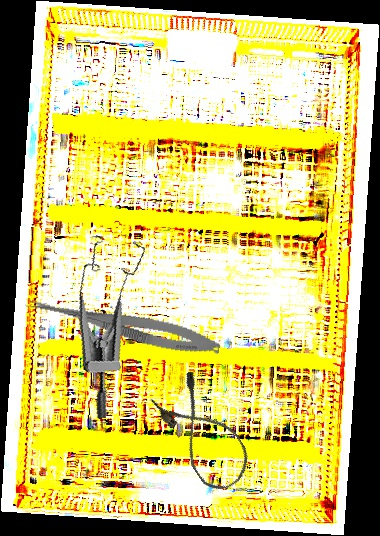Cannula: (148, 368, 259, 499)
Micro Scissor: (22, 291, 223, 361)
Speculum: (52, 224, 183, 421)
